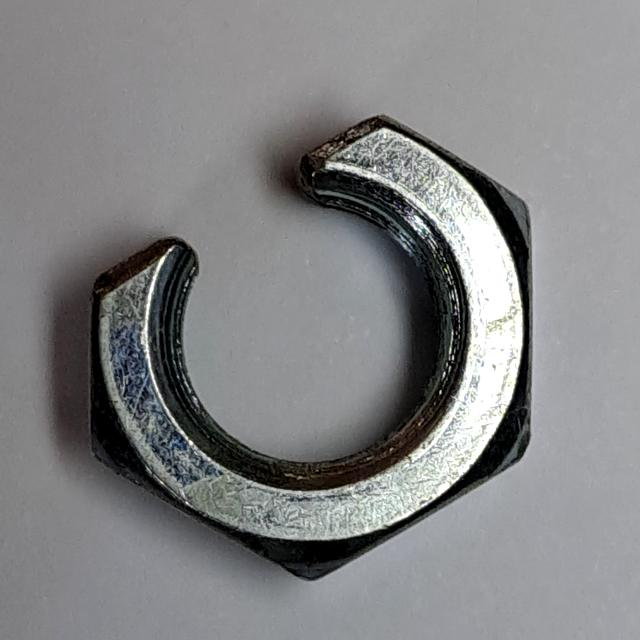Fracture: (75, 102, 546, 590)
